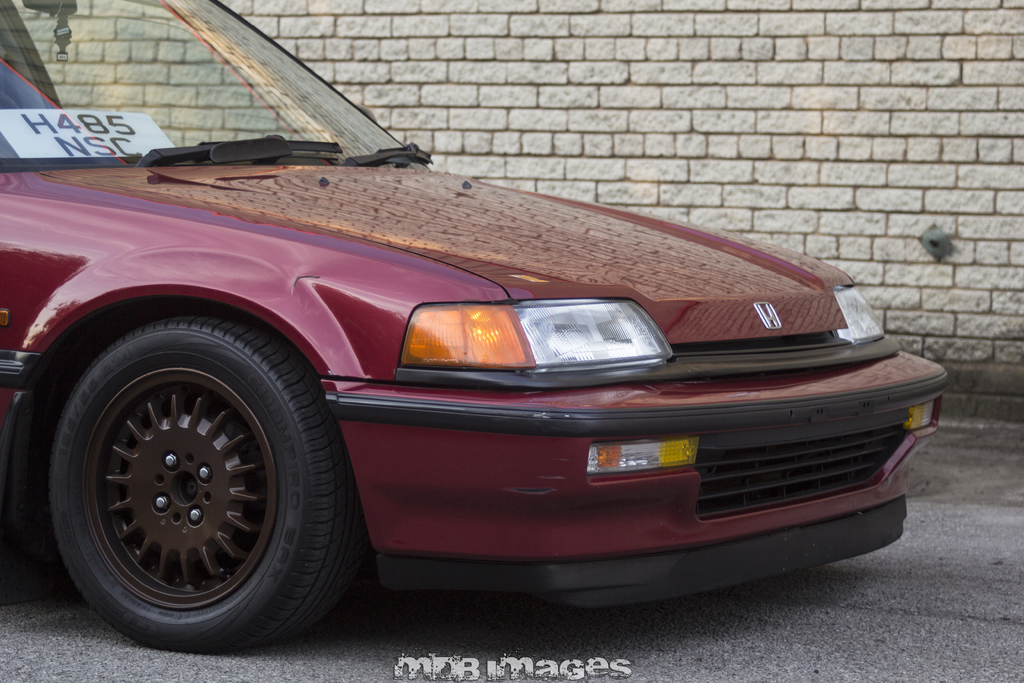mobil: (1, 1, 933, 647)
